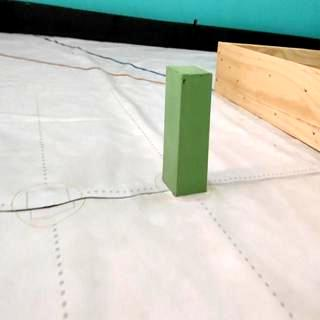greenbox: (162, 62, 214, 199)
